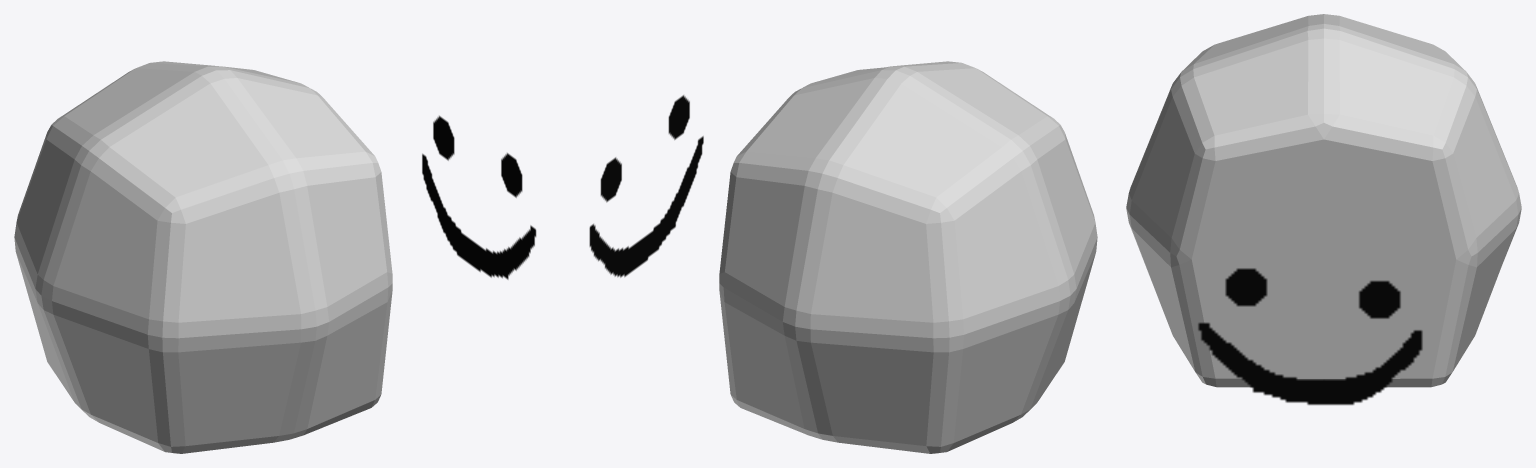
Rendered from pahlava.glb.
3 renders of one model, left to right at view 1: azimuth 30°, elevation 25°; view 2: azimuth 150°, elevation 25°; view 3: azimuth 270°, elevation 25°, orthographic.
Parts seen in each view (by area): view 1: Cube, face; view 2: Cube, face; view 3: Cube, face.
Boxes of the visible parts, x1,y1,x2,y2 form: Cube: (14, 61, 392, 453); face: (422, 115, 536, 279); Cube: (719, 61, 1097, 453); face: (589, 95, 703, 277); Cube: (1126, 14, 1521, 387); face: (1198, 268, 1422, 404).
Size of the model in its own units: 0.4998 by 0.3551 by 0.4048.
1 material, 1 textured.
